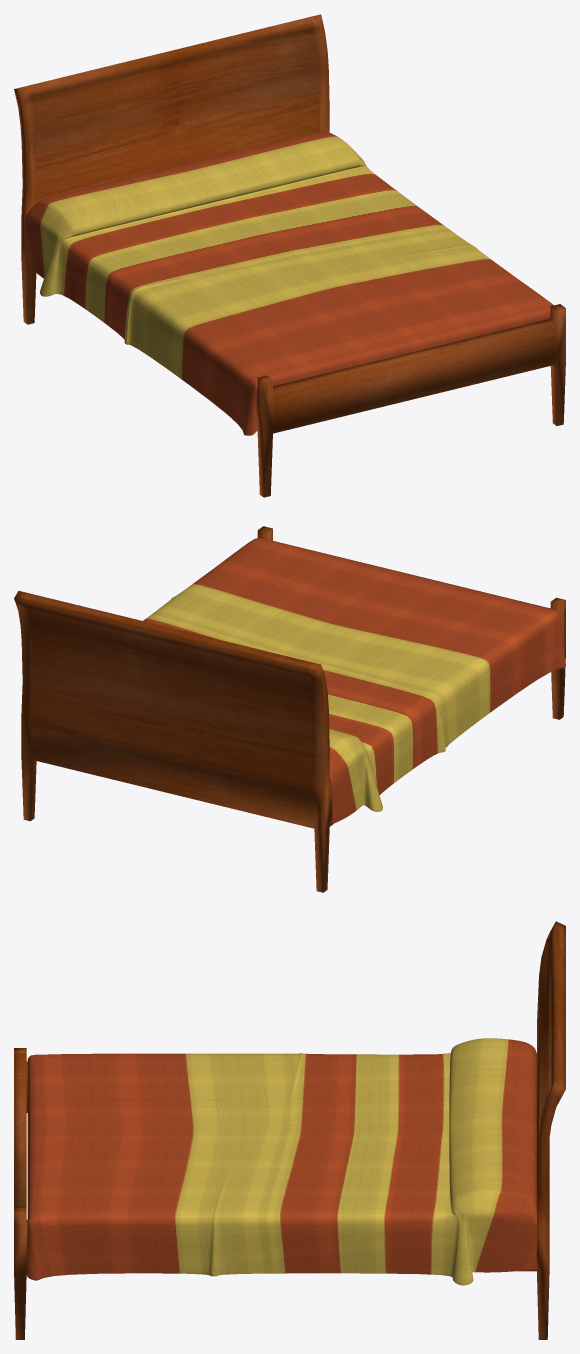
File: sh_scopia_bed1.glb
The picture shows the model from 3 angles, top to bottom: view 1: azimuth 30°, elevation 25°; view 2: azimuth 150°, elevation 25°; view 3: azimuth 270°, elevation 25°; orthographic projection. The views are drawn at different scales.
Bounding box in the file's own units: 1.71 × 1.11 × 2.16.
2 materials, 2 textured.
